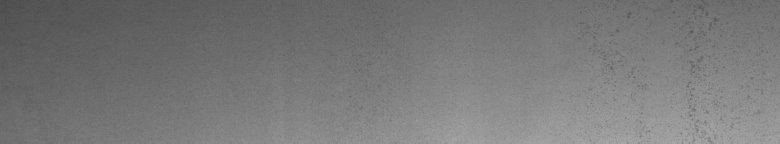ib: (594, 4, 739, 131)
